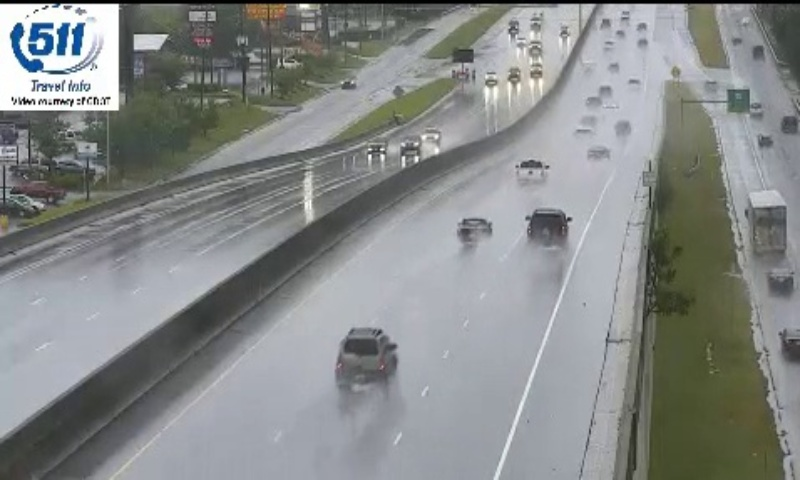car: (334, 329, 396, 384), (527, 209, 567, 249), (456, 217, 492, 241), (517, 158, 545, 184)
